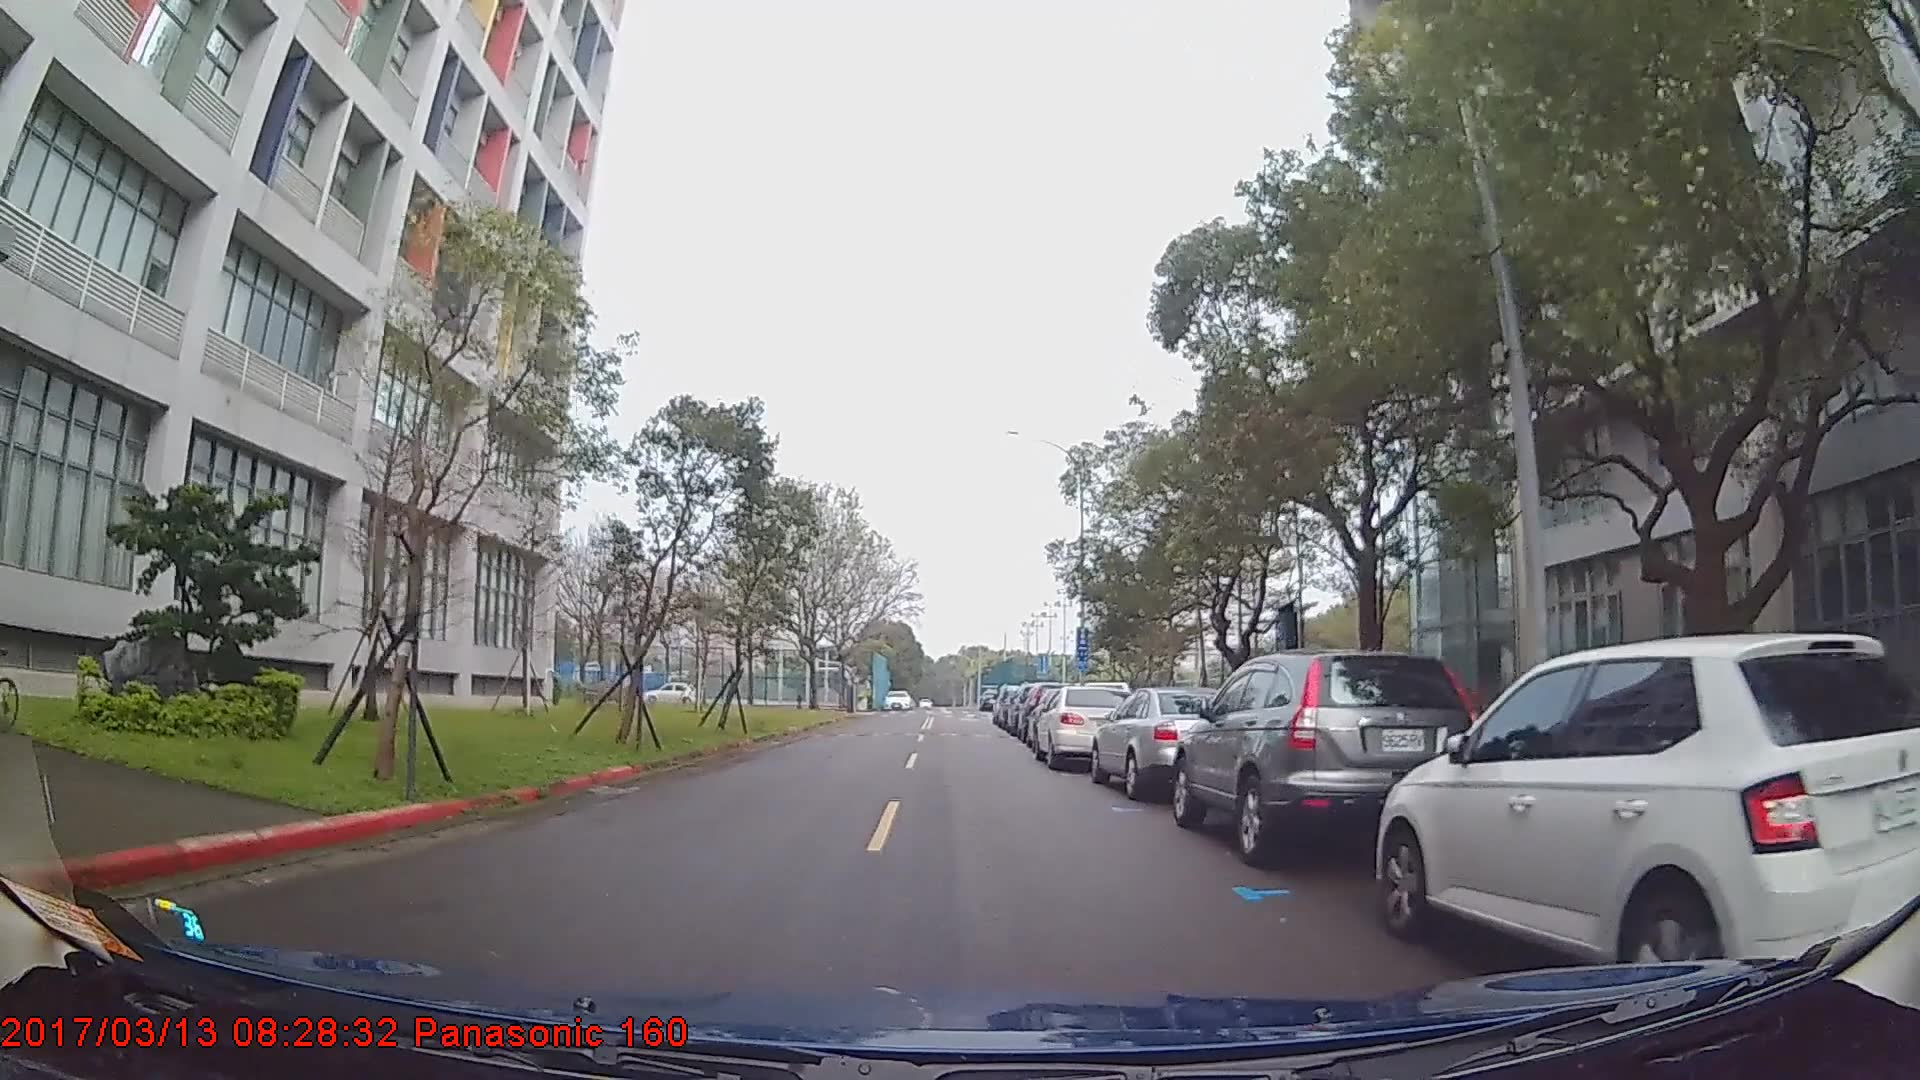vehicle: (1375, 629, 1920, 997), (1174, 646, 1489, 866), (1088, 684, 1229, 799), (1033, 680, 1143, 769), (645, 678, 698, 705)
